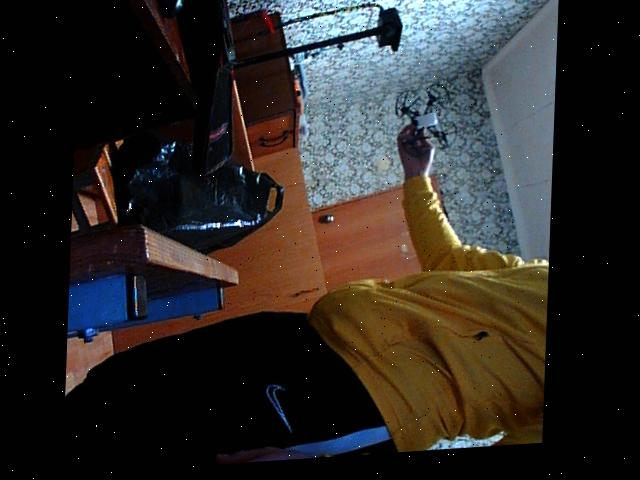drone: (387, 82, 468, 171)
